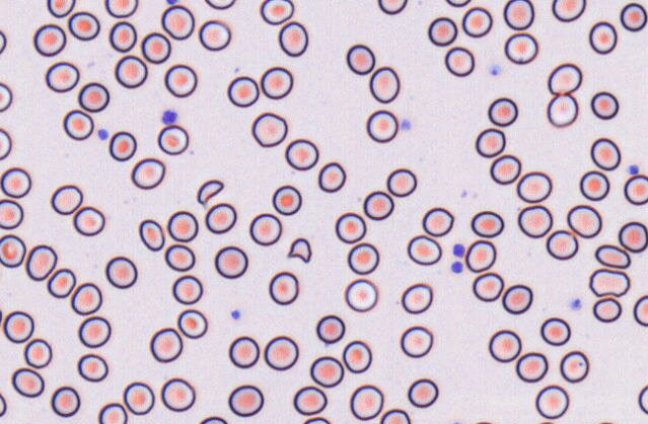PLT: (161, 109, 181, 124), (452, 243, 467, 257), (97, 127, 110, 141), (450, 260, 465, 272), (570, 298, 583, 311), (401, 118, 414, 131), (229, 309, 241, 322), (629, 164, 640, 175)
RBC: (251, 111, 287, 147), (263, 335, 298, 370), (160, 377, 195, 412), (349, 384, 383, 420), (517, 204, 552, 238), (149, 327, 183, 362), (535, 384, 569, 419), (567, 204, 602, 238), (228, 384, 264, 417), (547, 62, 582, 95), (161, 4, 194, 39), (25, 244, 57, 280), (516, 171, 552, 203), (344, 278, 377, 312), (214, 245, 248, 278), (309, 355, 344, 387), (369, 66, 399, 103), (488, 329, 521, 362), (114, 55, 147, 88), (78, 315, 111, 348), (260, 66, 293, 99), (33, 23, 66, 56), (164, 64, 197, 97), (131, 157, 165, 189), (284, 138, 318, 170), (122, 381, 154, 415), (504, 32, 538, 64), (400, 325, 433, 357), (70, 282, 102, 315), (366, 109, 398, 142), (268, 271, 299, 305), (407, 234, 441, 265), (45, 61, 79, 92), (278, 21, 308, 56), (347, 242, 379, 274), (227, 75, 259, 107), (249, 213, 281, 245), (105, 256, 137, 288), (515, 351, 548, 382), (3, 310, 34, 343), (228, 335, 259, 368), (465, 239, 496, 272), (547, 94, 578, 127), (198, 19, 231, 50), (590, 137, 621, 170), (293, 385, 327, 415), (204, 202, 236, 233), (167, 210, 198, 242), (73, 205, 105, 236), (545, 229, 578, 259), (11, 367, 44, 397), (342, 340, 372, 373), (335, 212, 366, 243), (0, 167, 31, 198), (461, 6, 492, 37), (401, 282, 432, 313), (157, 124, 188, 155), (489, 154, 521, 184), (50, 184, 82, 214), (559, 350, 589, 382), (50, 385, 80, 417), (67, 11, 100, 40), (172, 274, 203, 304), (363, 190, 394, 220), (472, 271, 503, 301), (503, 0, 534, 30), (579, 170, 609, 201), (422, 206, 453, 236), (63, 109, 93, 140), (141, 32, 171, 63), (78, 82, 109, 112), (589, 21, 617, 54), (475, 127, 505, 157), (444, 46, 474, 76), (502, 284, 532, 314), (177, 308, 207, 338), (47, 267, 76, 298), (77, 353, 108, 382), (108, 21, 137, 52), (272, 184, 301, 215), (407, 378, 438, 407), (618, 221, 647, 252), (470, 210, 503, 237), (0, 234, 26, 268), (428, 16, 457, 46), (23, 338, 52, 368), (346, 44, 375, 74), (386, 168, 416, 197), (318, 161, 346, 192), (138, 219, 165, 251), (594, 244, 630, 268), (260, 0, 294, 25), (316, 314, 345, 343), (488, 97, 517, 126), (540, 317, 570, 345), (108, 131, 136, 161), (164, 244, 195, 271), (590, 91, 618, 119), (620, 2, 647, 31), (592, 296, 622, 322), (551, 0, 586, 22), (0, 198, 23, 229), (624, 174, 647, 205), (104, 0, 138, 18), (98, 402, 127, 423), (46, 0, 75, 17), (379, 408, 410, 423), (633, 294, 647, 326), (377, 0, 407, 14), (0, 127, 12, 160), (0, 82, 12, 112), (204, 0, 235, 9), (638, 384, 647, 414), (198, 415, 227, 423), (302, 416, 330, 423), (444, 0, 471, 7), (0, 392, 7, 417), (0, 29, 6, 54), (593, 420, 617, 424), (473, 420, 497, 424), (535, 420, 556, 424), (165, 0, 179, 5)
Schistocyte: (589, 269, 631, 297), (288, 237, 313, 265), (198, 179, 224, 205)
